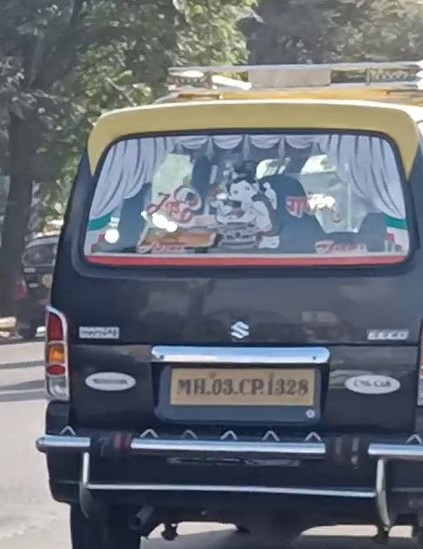MH03CP1328: (170, 367, 314, 403)
